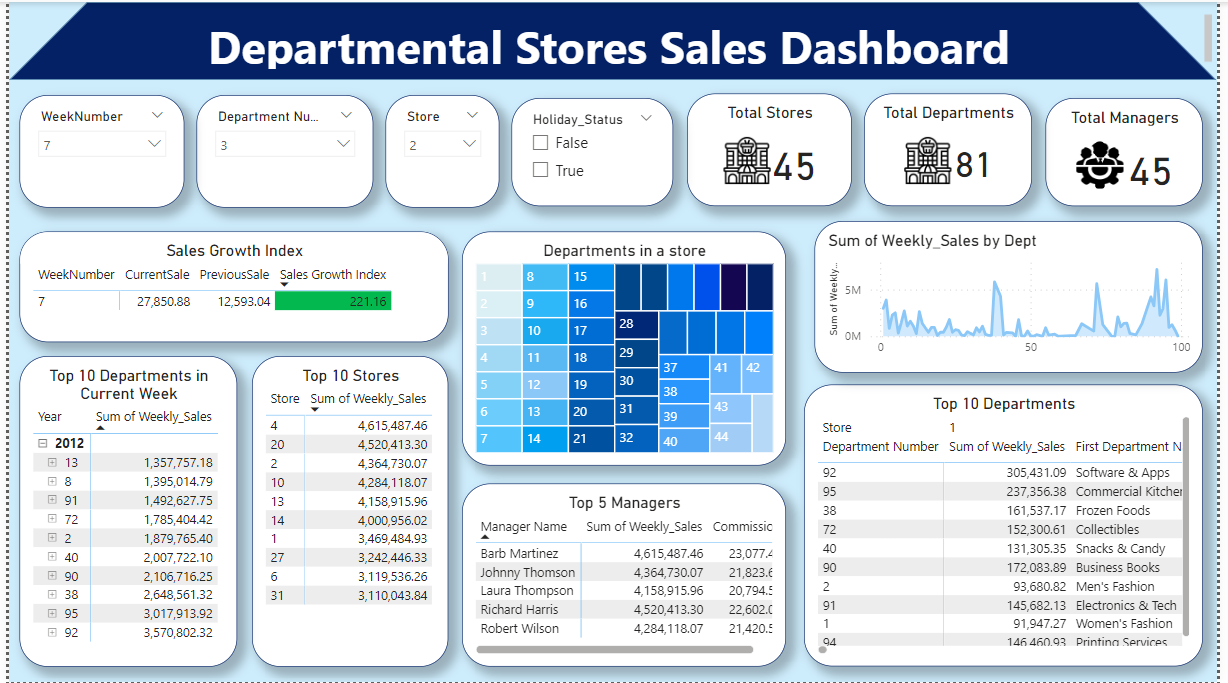

Layout of this report page (visuals, bound fields, positions):
{"tool":"powerbi","page":{"name":"Page 1","canvas":[1280,720],"ordinal":0},"visuals":[{"type":"slicer","fields":{"Values":["Department.Department Number"]},"box":[198.7,98.5,187.5,119.2],"z":0},{"type":"slicer","fields":{"Values":["All data.Store"]},"box":[398.9,98.5,120.8,119.2],"z":1000},{"type":"slicer","fields":{"Values":["All data.WeekNumber"]},"box":[11.1,98.5,174.8,119.2],"z":2000},{"type":"pivotTable","title":"Top 10 Departments","fields":{"Rows":["Department.Department Number"],"Values":["All data.Weekly_Sales","Department.Department Name"],"Columns":["All data.Store"]},"box":[842.4,405.3,422.8,298.8],"z":3000},{"type":"pivotTable","title":"Sales Growth Index","fields":{"Values":["All data.CurrentSale","All data.PreviousSale","All data.Sales Growth Index"],"Rows":["All data.WeekNumber"]},"box":[11.1,243.2,454.6,117.6],"z":4000},{"type":"pivotTable","title":"Top 10 Stores ","fields":{"Rows":["All data.Store"],"Values":["All data.Weekly_Sales"]},"box":[257.5,375.1,208.2,329],"z":5000},{"type":"pivotTable","title":"Top 5 Managers","fields":{"Values":["All data.Weekly_Sales","All data.Commission"],"Rows":["Stores.Manager Name"]},"box":[480,510.2,343.3,193.9],"z":6000},{"type":"pivotTable","title":"Top 10 Departments in Current Week","fields":{"Rows":["All data.Year","All data.Dept","All data.Store"],"Values":["All data.Weekly_Sales"]},"box":[11.1,375.1,230.5,329],"z":7000},{"type":"cardVisual","title":"Total Stores","fields":{"Data":["Stores.Store"]},"box":[718.4,97,174.8,119.2],"z":8000},{"type":"cardVisual","title":"Total Managers","fields":{"Data":["Stores.Manager Name"]},"box":[1098.3,101.7,166.9,114.4],"z":9000},{"type":"cardVisual","title":"Total Departments","fields":{"Data":["Department.Department Number"]},"box":[906,97,178,119.2],"z":10000},{"type":"treemap","title":"Departments in a store","fields":{"Group":["All data.Store"],"Values":["Department.Department Name"]},"box":[480,243.2,343.3,247.9],"z":11000},{"type":"shape","box":[0,0,1279.5,82.6],"z":12000},{"type":"textbox","box":[0,7.9,1279.5,66.8],"z":13000},{"type":"areaChart","fields":{"Category":["All data.Dept"],"Y":["All data.Weekly_Sales"]},"box":[853.5,232.1,411.7,160.5],"z":14000},{"type":"slicer","fields":{"Values":["All data.Holiday_Status"]},"box":[532.5,101.7,171.7,114.4],"z":15000}]}

Visuals, with their boxes in screenshot pixels (x1, y1, x2, y2), scaled from the page's 1280x720 canvas onto the 1228x683 screenshot:
slicer - Department.Department Number: [191,93,371,207]
slicer - All data.Store: [383,93,499,207]
slicer - All data.WeekNumber: [11,93,178,207]
"Top 10 Departments" pivotTable: [808,384,1214,668]
"Sales Growth Index" pivotTable: [11,231,447,342]
"Top 10 Stores " pivotTable: [247,356,447,668]
"Top 5 Managers" pivotTable: [460,484,790,668]
"Top 10 Departments in Current Week" pivotTable: [11,356,232,668]
"Total Stores" cardVisual: [689,92,857,205]
"Total Managers" cardVisual: [1054,96,1214,205]
"Total Departments" cardVisual: [869,92,1040,205]
"Departments in a store" treemap: [460,231,790,466]
shape: [0,0,1227,78]
textbox: [0,7,1227,71]
areaChart - All data.Dept x All data.Weekly_Sales: [819,220,1214,372]
slicer - All data.Holiday_Status: [511,96,676,205]
